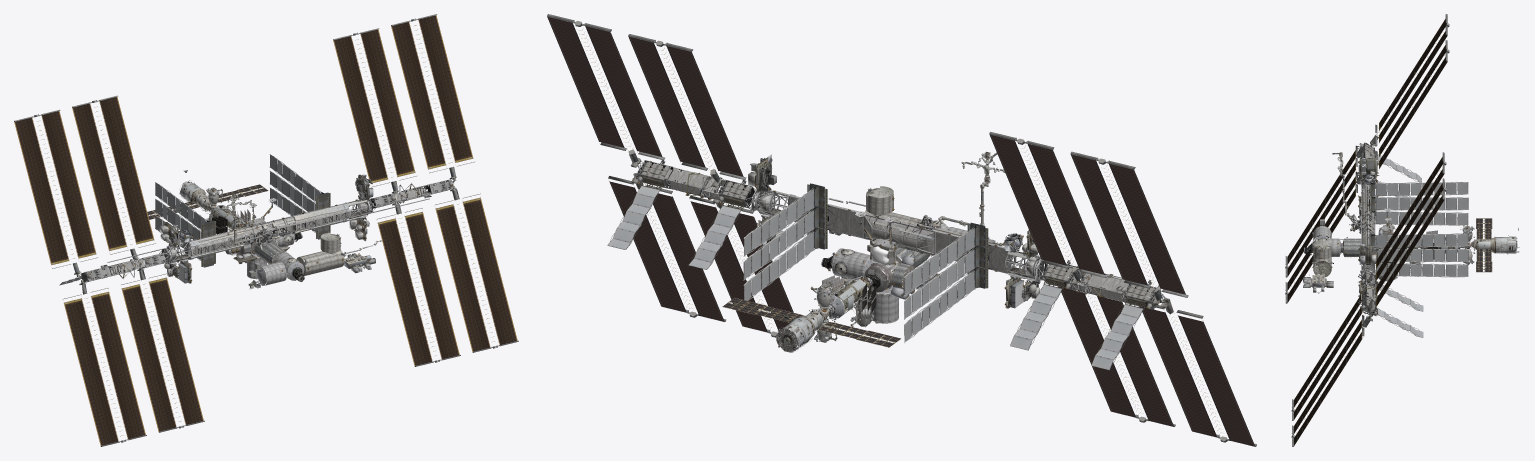
3 views of the same model, side by side, from view 1: azimuth 30°, elevation 25°; view 2: azimuth 150°, elevation 25°; view 3: azimuth 270°, elevation 25° (orthographic). The views are drawn at different scales.
Parts seen in each view (by area): view 1: panel_01_p.001, 01 Zarya - (FGB) Funtional Cargo Block, 14 S0 Truss, 15 (MBS) Mobile Base System, 02 Unity Node 1, 09 Destiny Space Laboratory, 06 Z1 Truss, 05 Zvezda (SM) Service Module, 39 Rassvet (MRM-1) Mini Research Module, 25 (ESP) External Stowage Platform 3; view 2: 01 Zarya - (FGB) Funtional Cargo Block, 14 S0 Truss, 02 Unity Node 1, 15 (MBS) Mobile Base System, 06 Z1 Truss, 05 Zvezda (SM) Service Module, panel_01_p.001, 09 Destiny Space Laboratory, 39 Rassvet (MRM-1) Mini Research Module; view 3: panel_01_p.001, 01 Zarya - (FGB) Funtional Cargo Block, 14 S0 Truss, 15 (MBS) Mobile Base System, 02 Unity Node 1, 09 Destiny Space Laboratory, 05 Zvezda (SM) Service Module, 06 Z1 Truss, 25 (ESP) External Stowage Platform 3, 39 Rassvet (MRM-1) Mini Research Module.
Boxes of the visible parts, x1,y1,x2,y2 form: panel_01_p.001: [14, 15, 517, 445]; 01 Zarya - (FGB) Funtional Cargo Block: [37, 25, 494, 436]; 14 S0 Truss: [14, 14, 518, 446]; 15 (MBS) Mobile Base System: [107, 154, 430, 267]; 02 Unity Node 1: [81, 177, 453, 285]; 09 Destiny Space Laboratory: [229, 232, 344, 275]; 06 Z1 Truss: [62, 179, 454, 288]; 05 Zvezda (SM) Service Module: [164, 188, 375, 273]; 39 Rassvet (MRM-1) Mini Research Module: [228, 216, 340, 255]; 25 (ESP) External Stowage Platform 3: [165, 216, 370, 285]; 01 Zarya - (FGB) Funtional Cargo Block: [547, 17, 1255, 446]; 14 S0 Truss: [547, 14, 1256, 446]; 02 Unity Node 1: [637, 159, 1158, 352]; 15 (MBS) Mobile Base System: [714, 185, 1122, 342]; 06 Z1 Truss: [610, 160, 1164, 364]; 05 Zvezda (SM) Service Module: [757, 151, 1036, 341]; panel_01_p.001: [722, 284, 901, 347]; 09 Destiny Space Laboratory: [865, 186, 928, 288]; 39 Rassvet (MRM-1) Mini Research Module: [850, 188, 935, 327]; panel_01_p.001: [1287, 19, 1492, 445]; 01 Zarya - (FGB) Funtional Cargo Block: [1291, 32, 1518, 431]; 14 S0 Truss: [1285, 14, 1449, 446]; 15 (MBS) Mobile Base System: [1349, 151, 1468, 299]; 02 Unity Node 1: [1304, 143, 1516, 315]; 09 Destiny Space Laboratory: [1313, 238, 1375, 277]; 05 Zvezda (SM) Service Module: [1303, 152, 1474, 292]; 06 Z1 Truss: [1341, 142, 1419, 336]; 25 (ESP) External Stowage Platform 3: [1303, 158, 1379, 297]; 39 Rassvet (MRM-1) Mini Research Module: [1320, 210, 1422, 272].
Size of the model in its own units: 112 by 68.79 by 58.62.
Materials: 27 (21 with a texture image).
